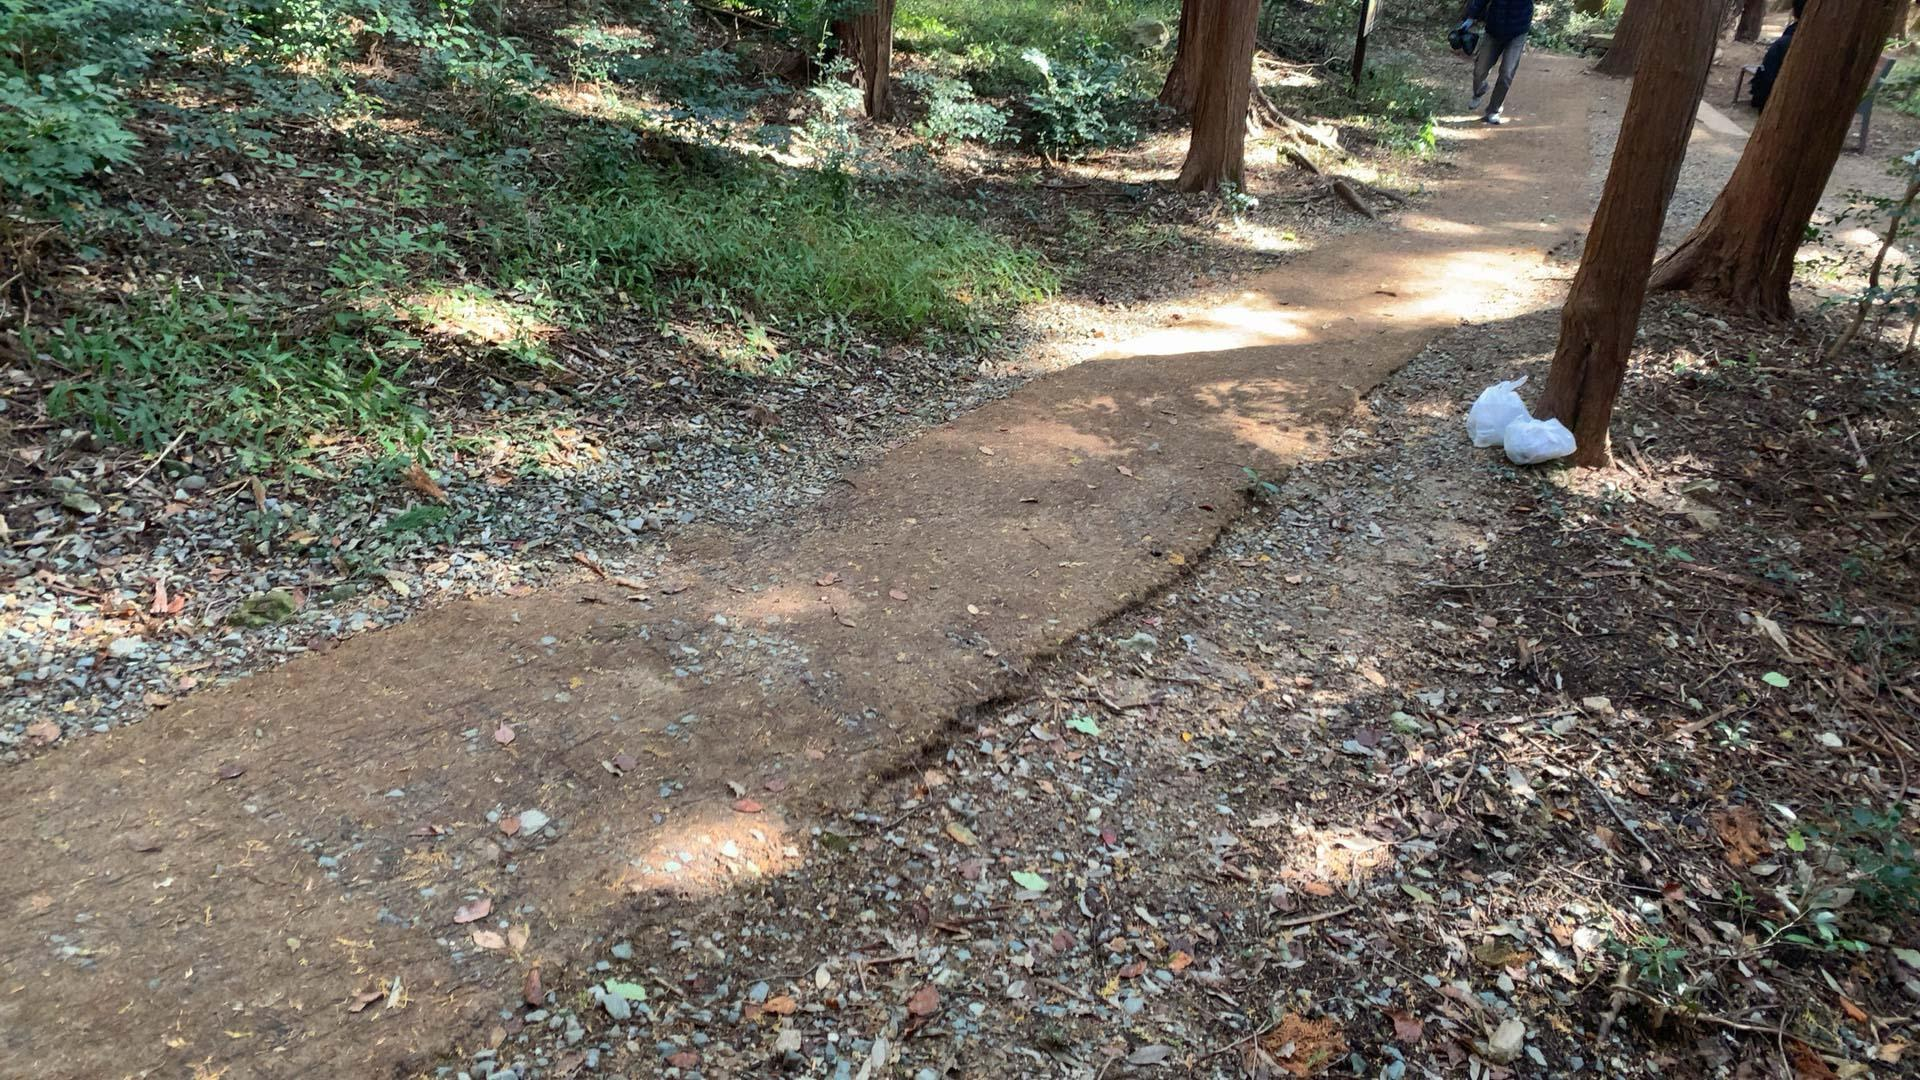white_bag: (1461, 371, 1538, 448), (1501, 414, 1578, 460)
